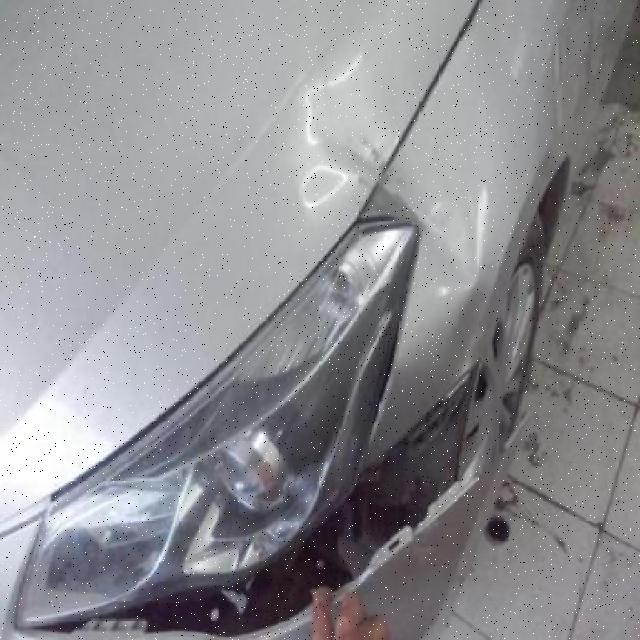damage: (34, 365, 530, 639), (301, 65, 486, 292)
